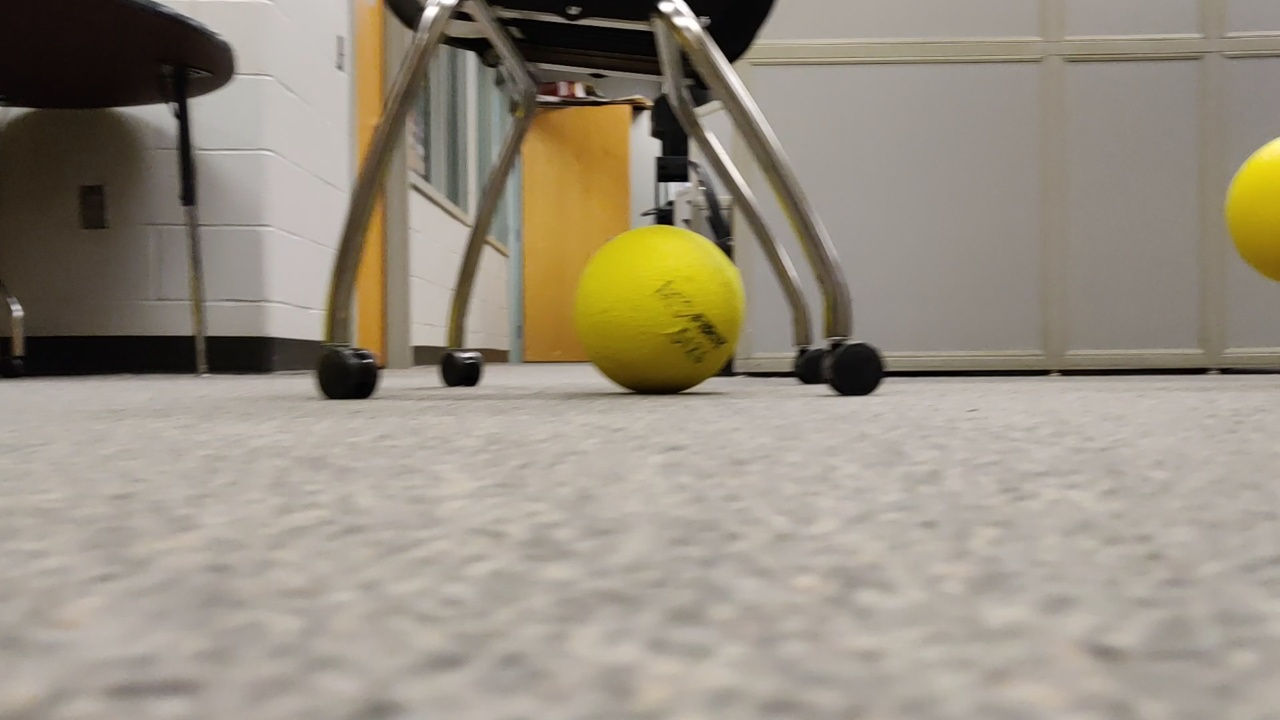Ball: (577, 220, 749, 390), (1223, 135, 1280, 278)
